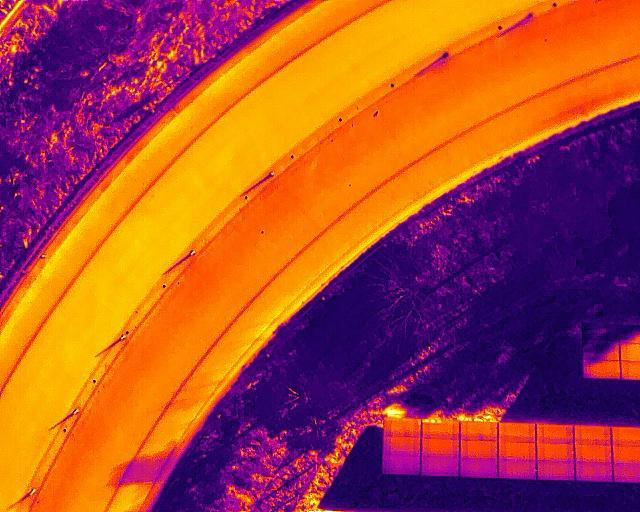Cell-Multi: (421, 419, 459, 438)
No-Anomaly: (382, 451, 422, 475), (458, 455, 498, 476), (498, 456, 536, 478), (459, 435, 498, 456), (421, 434, 458, 456), (536, 440, 574, 461), (419, 455, 458, 475), (573, 462, 613, 481), (537, 460, 575, 480), (496, 439, 537, 457), (574, 443, 612, 461), (383, 434, 421, 452), (498, 422, 536, 440), (385, 418, 421, 437), (574, 425, 612, 442), (460, 419, 498, 436), (535, 424, 573, 440)
Shadowing: (583, 341, 619, 361), (583, 360, 621, 377), (581, 323, 619, 340)
